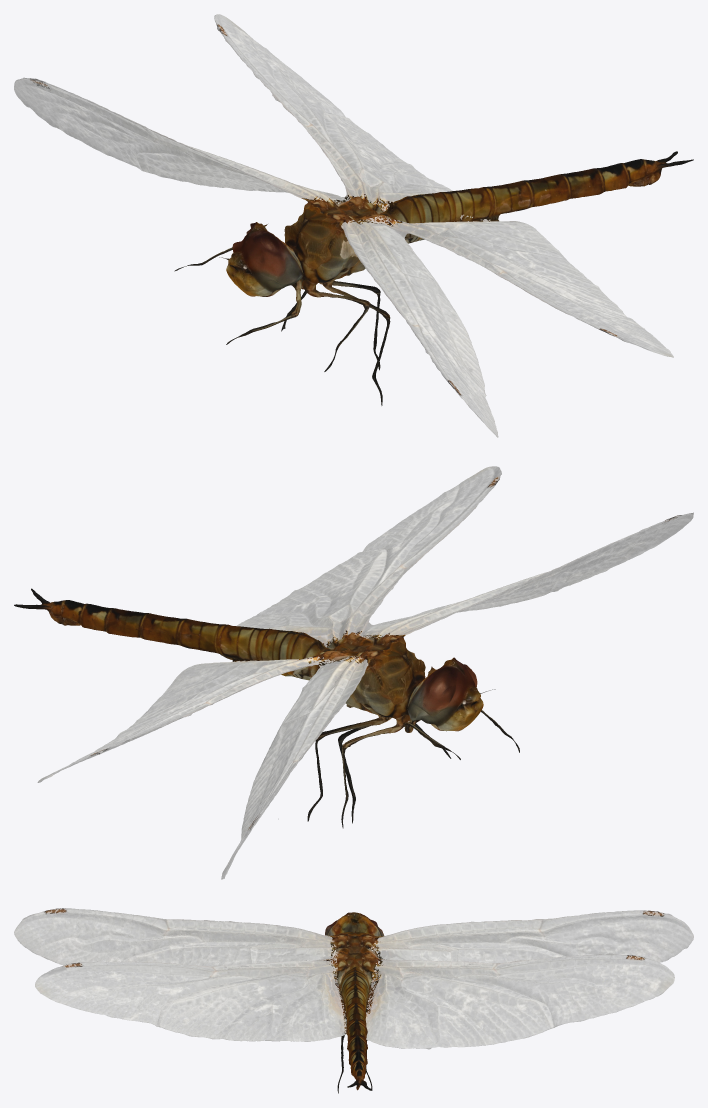
The model's file is pantala_flavescens.glb.
3 renders of one model, top to bottom at view 1: azimuth 30°, elevation 25°; view 2: azimuth 150°, elevation 25°; view 3: azimuth 270°, elevation 25°, orthographic. The views are drawn at different scales.
Parts seen in each view (by area): view 1: body_5; view 2: body_5; view 3: body_5.
Boxes of the visible parts, <box> form: body_5: <box>14,14,693,437</box>; body_5: <box>14,466,693,879</box>; body_5: <box>14,908,693,1093</box>.
Bounding box in the file's own units: 3.94 × 1.68 × 6.74.
3 materials, 3 textured.
